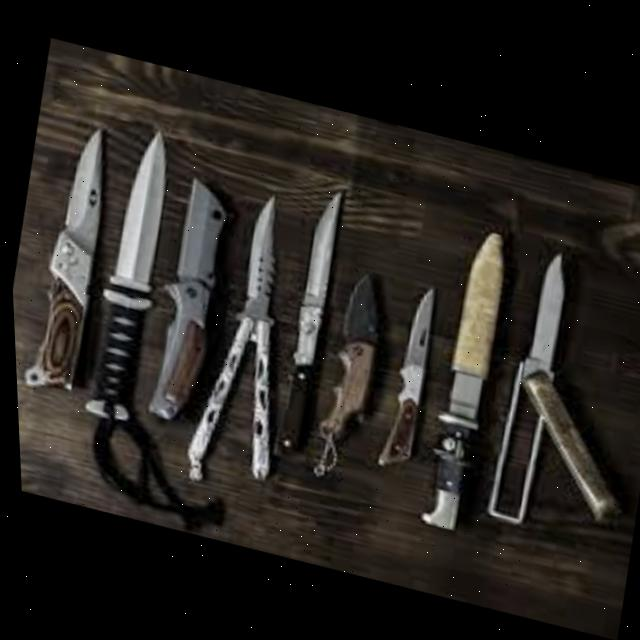knife: (167, 175, 318, 497), (403, 214, 518, 529), (69, 117, 185, 425), (8, 112, 121, 397), (470, 232, 577, 522), (132, 167, 237, 424), (262, 174, 352, 453), (297, 258, 391, 483), (365, 273, 439, 468)
